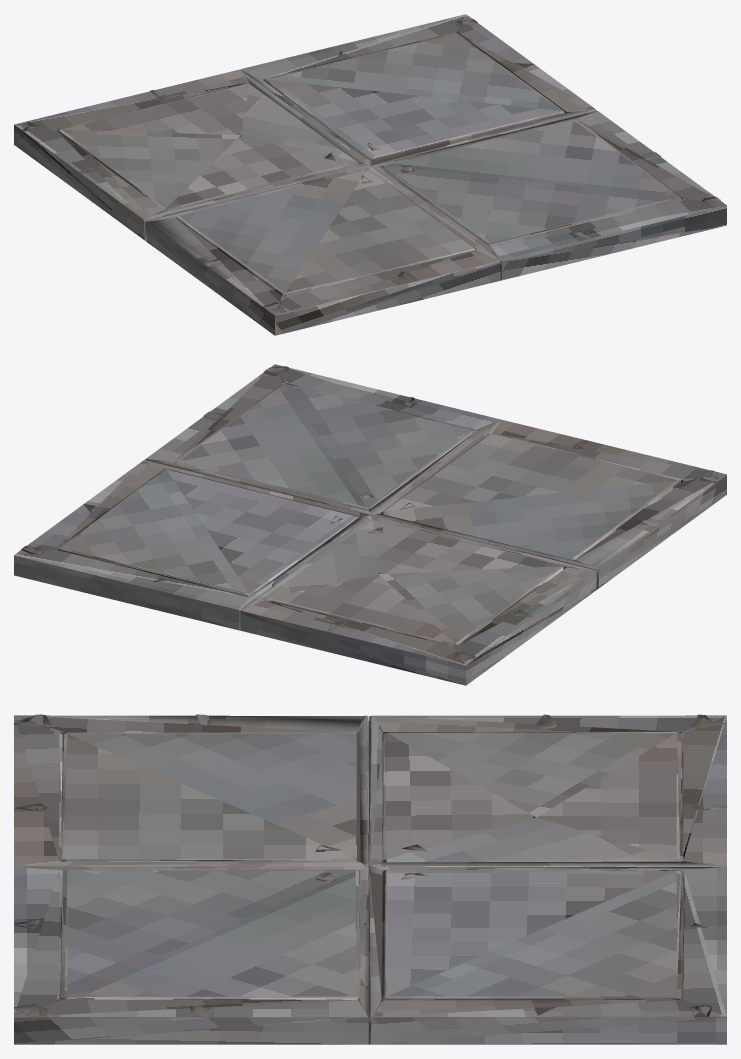
Rendered from floor-plate.lod2.glb.
3 renders of one model, top to bottom at view 1: azimuth 30°, elevation 25°; view 2: azimuth 150°, elevation 25°; view 3: azimuth 270°, elevation 25°, orthographic. The views are drawn at different scales.
Bounding box in the file's own units: 2 × 0.0997 × 2.
Materials: 1 (1 with a texture image).
